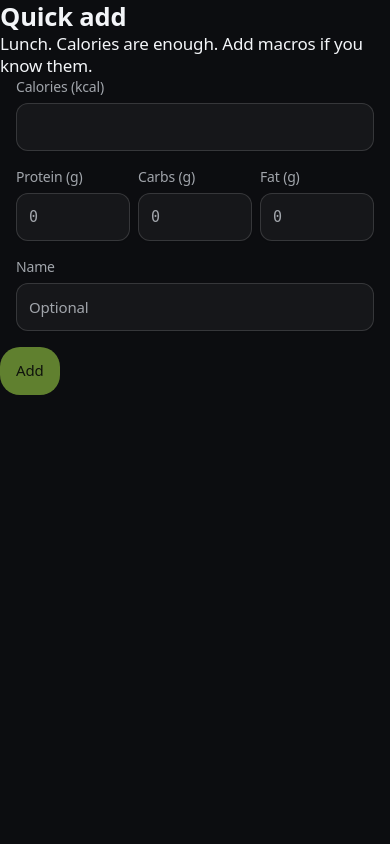
Scenario: QuickAddSheet › refuses values the diary cannot hold
Type "6000" into the field labelled "Calories (kcal)" at (195,127), box top-left (16, 103), bottom-right (374, 151)
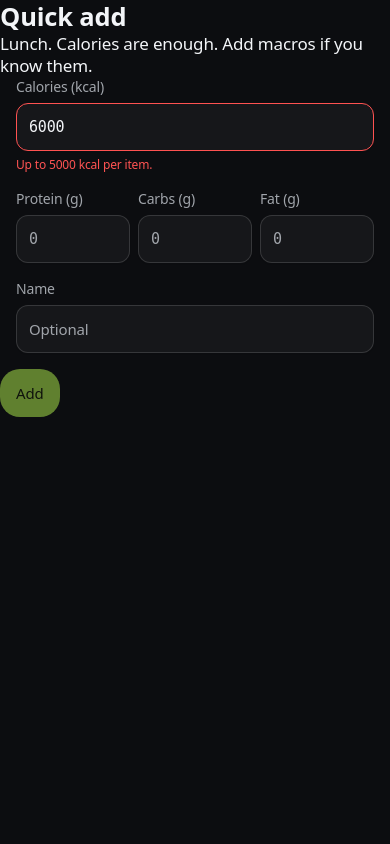
Expected: the button "Add" is disabled, top-left (0, 369), bottom-right (60, 417)
Now the text "Up to 5000 kcal per item." is shown, box top-left (16, 156), bottom-right (152, 173)
Replace the text in the field labelled "Calories (kcal)" with "600" at (195,127), box top-left (16, 103), bottom-right (374, 151)
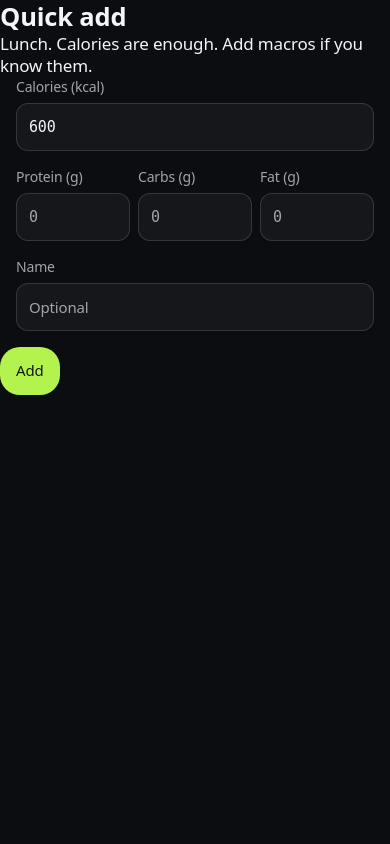
Type "501" into the field labelled "Carbs (g)" at (195,217), box top-left (138, 193), bottom-right (252, 241)
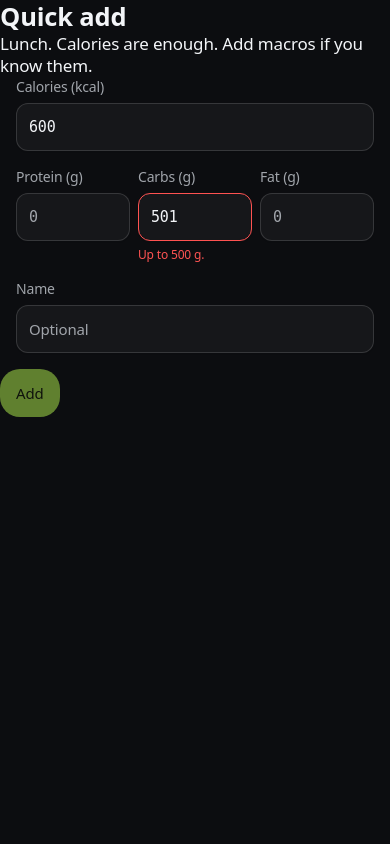
Now the button "Add" is disabled, box top-left (0, 369), bottom-right (60, 417)
Now the text "Up to 500 g." is shown, box top-left (138, 246), bottom-right (204, 263)
